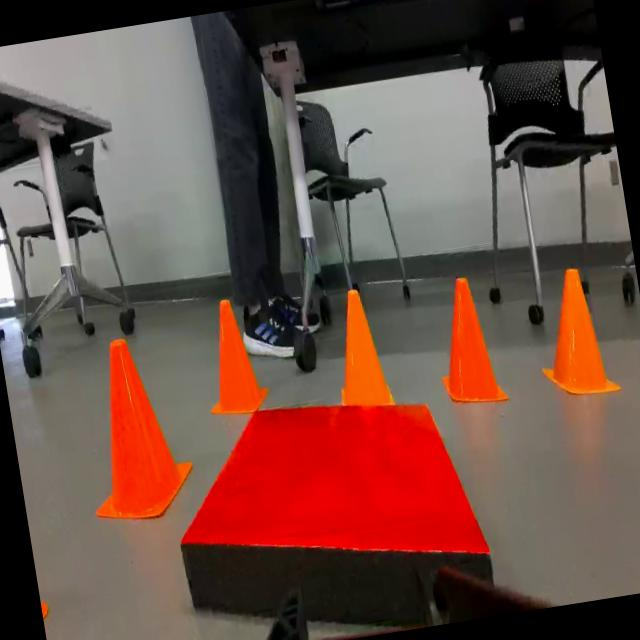cone: (64, 324, 202, 536), (532, 262, 620, 403), (428, 272, 509, 408), (192, 295, 272, 421), (326, 284, 398, 414)
red: (160, 375, 500, 640)
